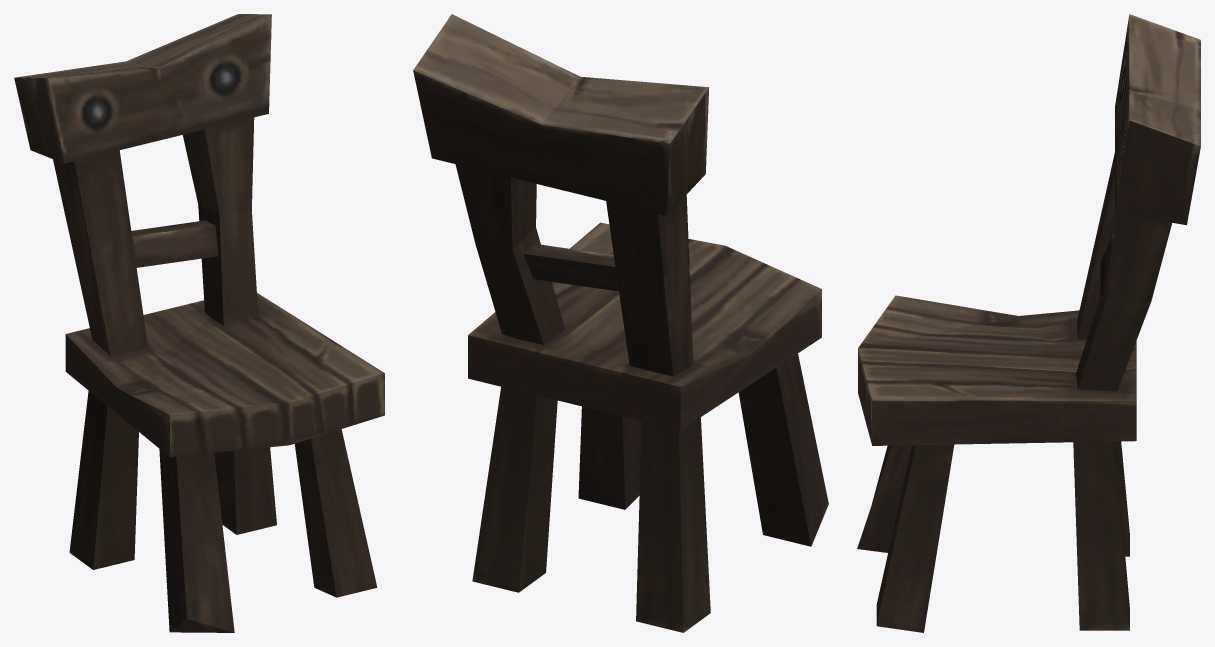
Rendered from bandit_chair_01.fbx.
3 views of the same model, side by side, from view 1: azimuth 30°, elevation 25°; view 2: azimuth 150°, elevation 25°; view 3: azimuth 270°, elevation 25° (orthographic). The views are drawn at different scales.
Parts seen in each view (by area): view 1: obj0.592; view 2: obj0.592; view 3: obj0.592.
Part boxes in pixels (x1=…): obj0.592: x1=14, y1=14, x2=384, y2=632; obj0.592: x1=413, y1=14, x2=828, y2=632; obj0.592: x1=857, y1=14, x2=1200, y2=632.
Size of the model in its own units: 0.8888 by 1.86 by 1.11.
